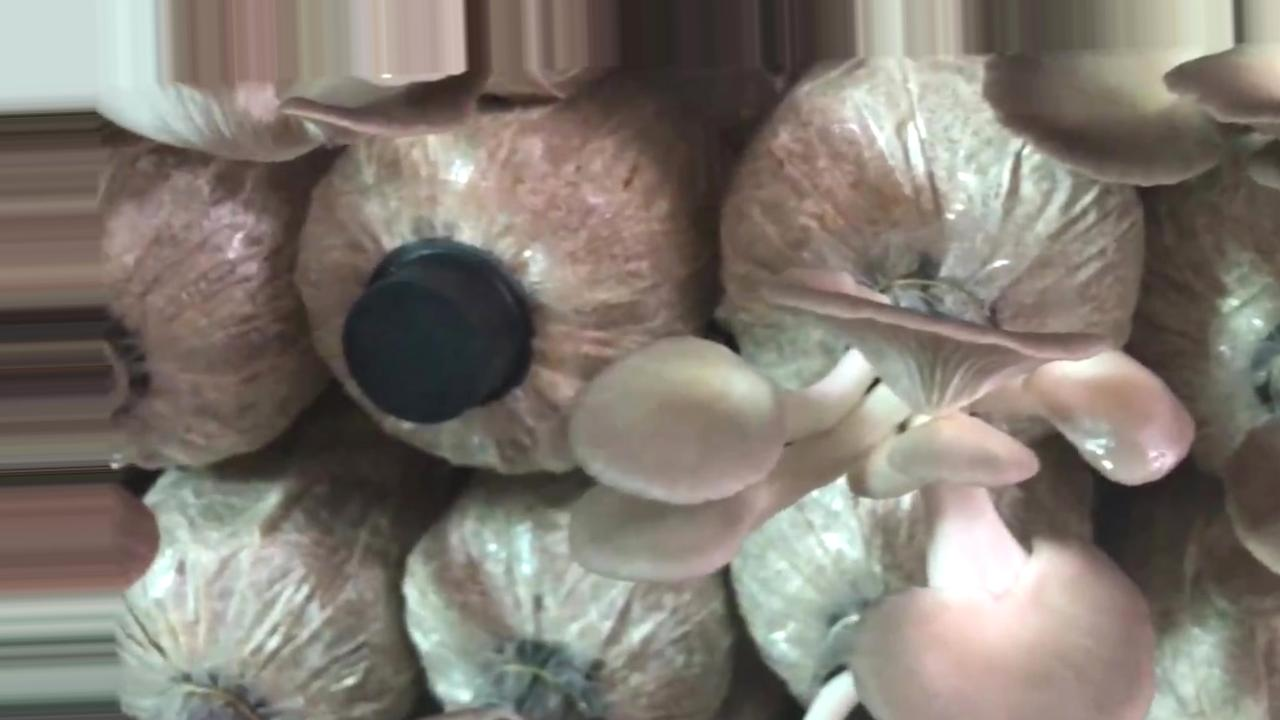nam: (561, 260, 1200, 720), (975, 1, 1280, 198)
